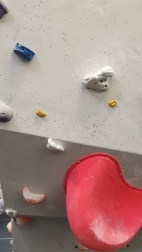Jug: (82, 66, 114, 92), (22, 186, 46, 205), (46, 137, 65, 153)
Pinch: (13, 42, 36, 61)
